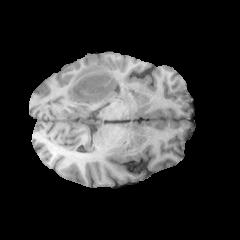glioma: (64, 61, 117, 104)
